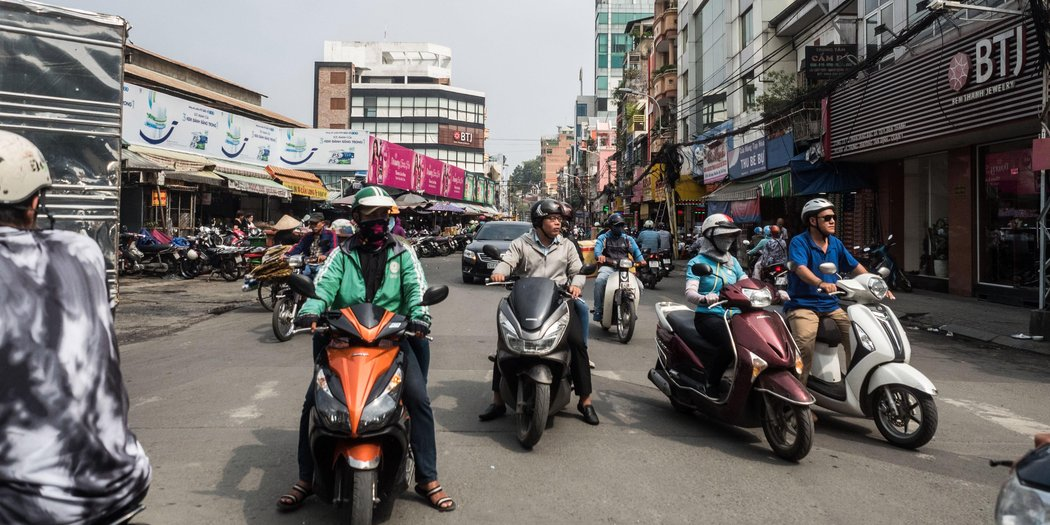helmet: (353, 180, 403, 250), (523, 194, 576, 251), (698, 205, 744, 264), (794, 191, 844, 244), (601, 205, 630, 244)
